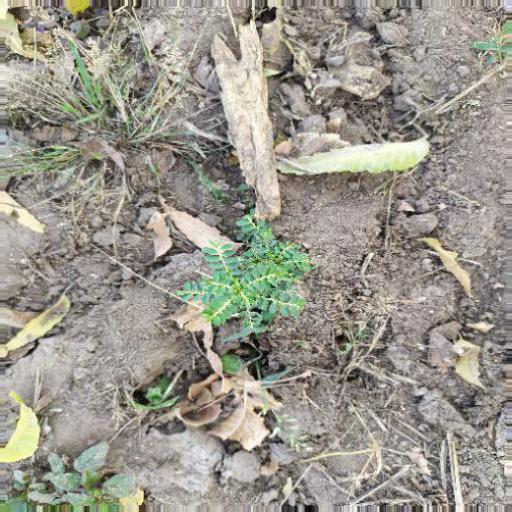weed: (6, 27, 192, 184), (167, 208, 323, 339)
